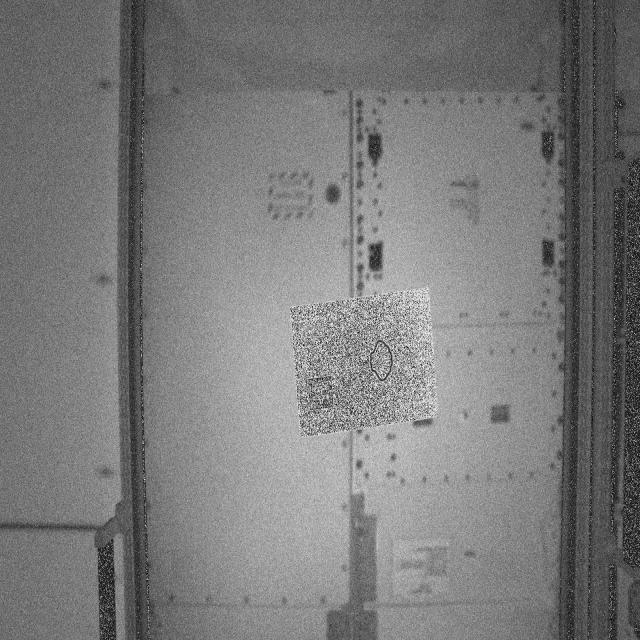shell: (365, 329, 400, 388)
